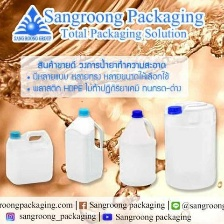cleaning_solution: (161, 98, 219, 193), (62, 106, 105, 184), (1, 128, 56, 188), (117, 107, 158, 187)
